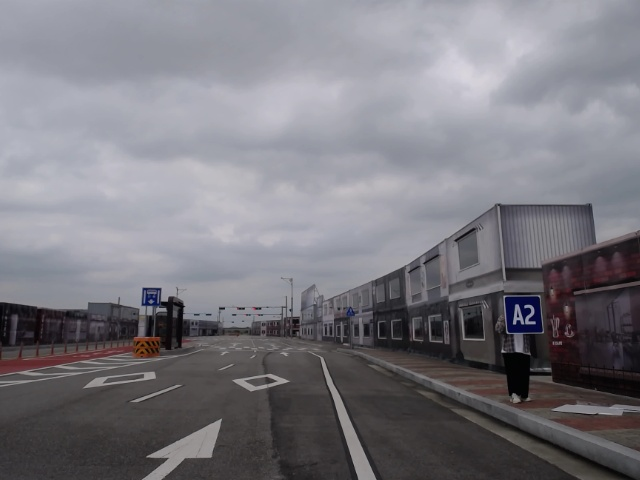delivery_a2: (503, 295, 544, 334)
